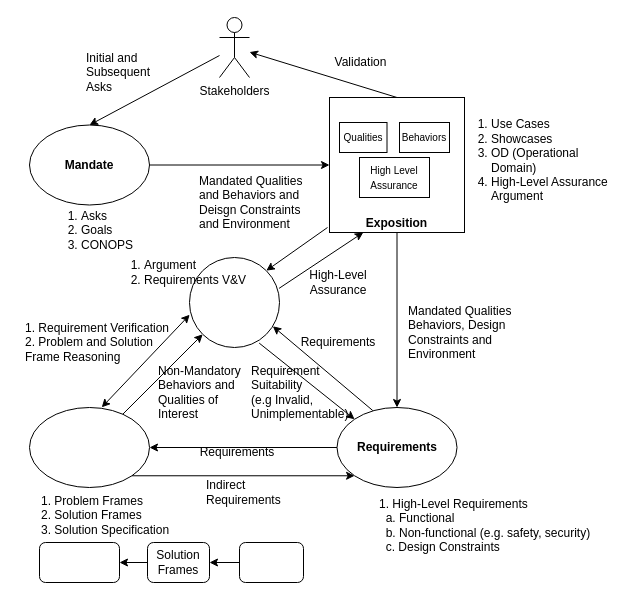
Some shapes in this 626 by 600 pixel diagram are drawn without their labels. The shapes that lost their labels are listed below. From the top down, each one's centre as x and y in pixels, then its label:
At (x=234, y=302): "Expert Assurance".
At (x=89, y=447): "Design, Specification, and Implementation".
At (x=79, y=562): "Specification".
At (x=271, y=562): "Problem Frames".
